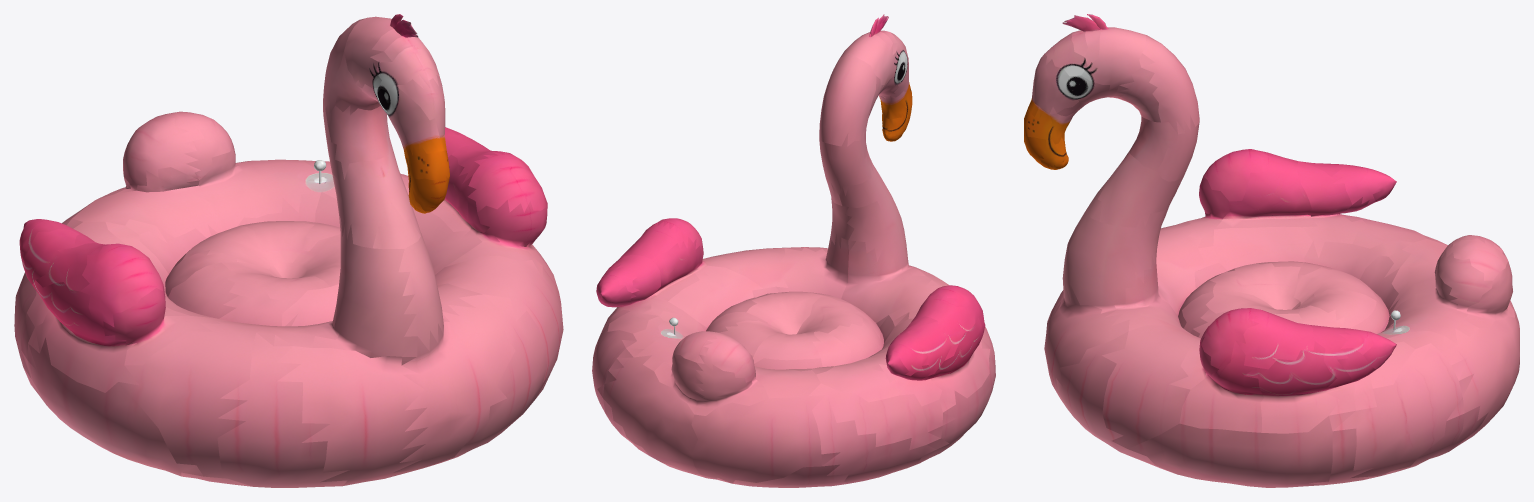
Rendered from flamingo-pusher.glb.
3 views of the same model, side by side, from view 1: azimuth 30°, elevation 25°; view 2: azimuth 150°, elevation 25°; view 3: azimuth 270°, elevation 25° (orthographic). The views are drawn at different scales.
Bounding box in the file's own units: 0.9414 × 0.8906 × 1.
1 material, 1 textured.
